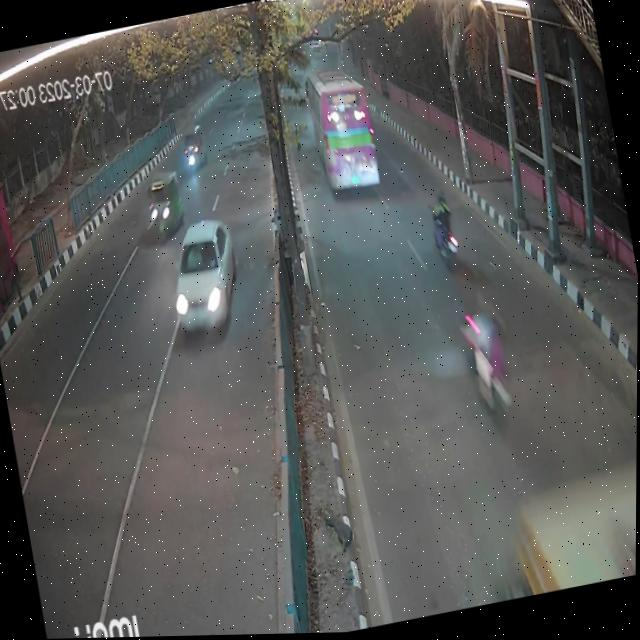cng: (141, 167, 192, 242)
